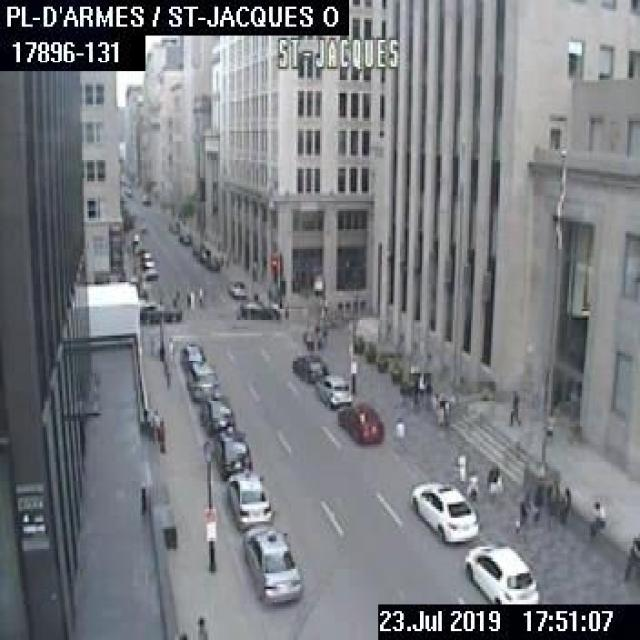pedestrian: (586, 496, 606, 540), (518, 489, 537, 532), (622, 533, 638, 580), (151, 404, 165, 454), (485, 458, 500, 500), (507, 388, 520, 426), (466, 469, 478, 498), (300, 325, 313, 351), (195, 613, 207, 638), (455, 449, 464, 481), (392, 416, 404, 440), (562, 486, 570, 521), (171, 286, 178, 307), (197, 286, 202, 304), (178, 629, 187, 638), (185, 291, 189, 307), (190, 289, 193, 307)
vehicle: (406, 476, 478, 544), (460, 540, 538, 602), (242, 522, 301, 602), (225, 467, 272, 528), (213, 424, 250, 476), (336, 402, 382, 442), (200, 392, 233, 433), (186, 358, 218, 398), (314, 372, 351, 406), (290, 352, 326, 380), (138, 300, 180, 322), (235, 298, 279, 318), (179, 341, 204, 367), (227, 280, 246, 296), (204, 253, 220, 268), (142, 260, 156, 277), (177, 229, 191, 243), (140, 251, 153, 264), (197, 248, 209, 261), (192, 241, 203, 254), (140, 193, 150, 204)
